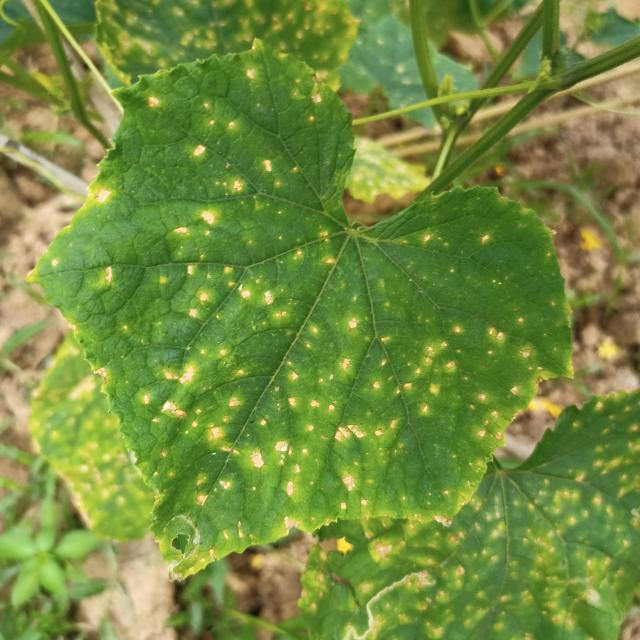disease_cucumber: (63, 259, 568, 540), (140, 69, 323, 258), (398, 225, 495, 251), (90, 183, 116, 211)
